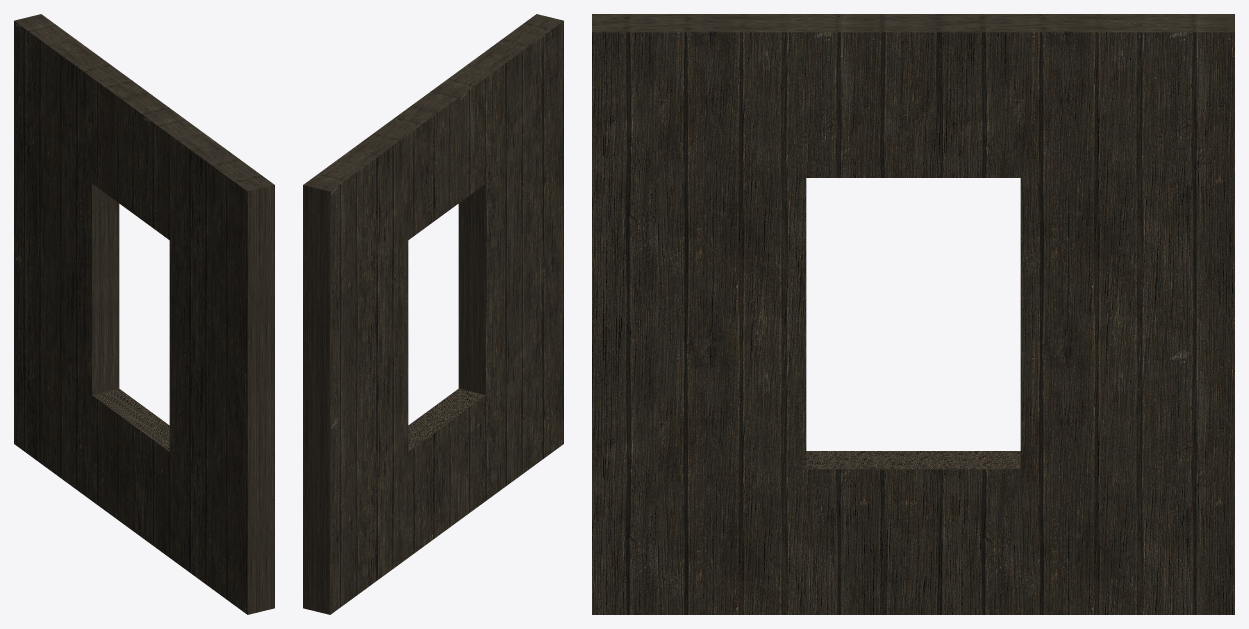
File: WoodenPlankWall(WindowHole)2.fbx
3 views of the same model, side by side, from view 1: azimuth 30°, elevation 25°; view 2: azimuth 150°, elevation 25°; view 3: azimuth 270°, elevation 25° (orthographic). The views are drawn at different scales.
Parts seen in each view (by area): view 1: Cube; view 2: Cube; view 3: Cube.
Boxes of the visible parts, x1,y1,x2,y2 form: Cube: (14, 14, 274, 614); Cube: (303, 14, 563, 614); Cube: (592, 14, 1234, 614).
Bounding box in the file's own units: 20.19 × 300 × 300.
1 material, 1 textured.
